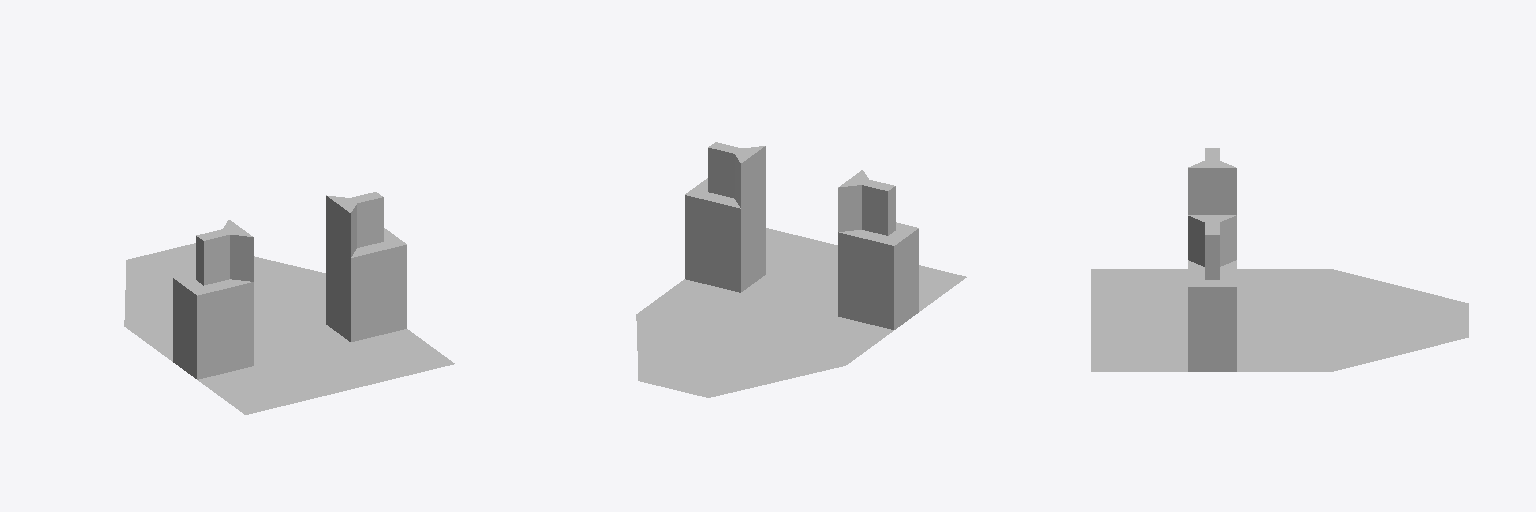
The model's file is debug.obj.
3 renders of one model, left to right at view 1: azimuth 30°, elevation 25°; view 2: azimuth 150°, elevation 25°; view 3: azimuth 270°, elevation 25°, orthographic.
Parts seen in each view (by area): view 1: Grid; view 2: Grid; view 3: Grid.
Boxes of the visible parts, x1,y1,x2,y2 form: Grid: [124, 192, 454, 414]; Grid: [636, 142, 966, 397]; Grid: [1091, 148, 1468, 371].
Bounding box in the file's own units: 4.09 × 2.4 × 6.38.